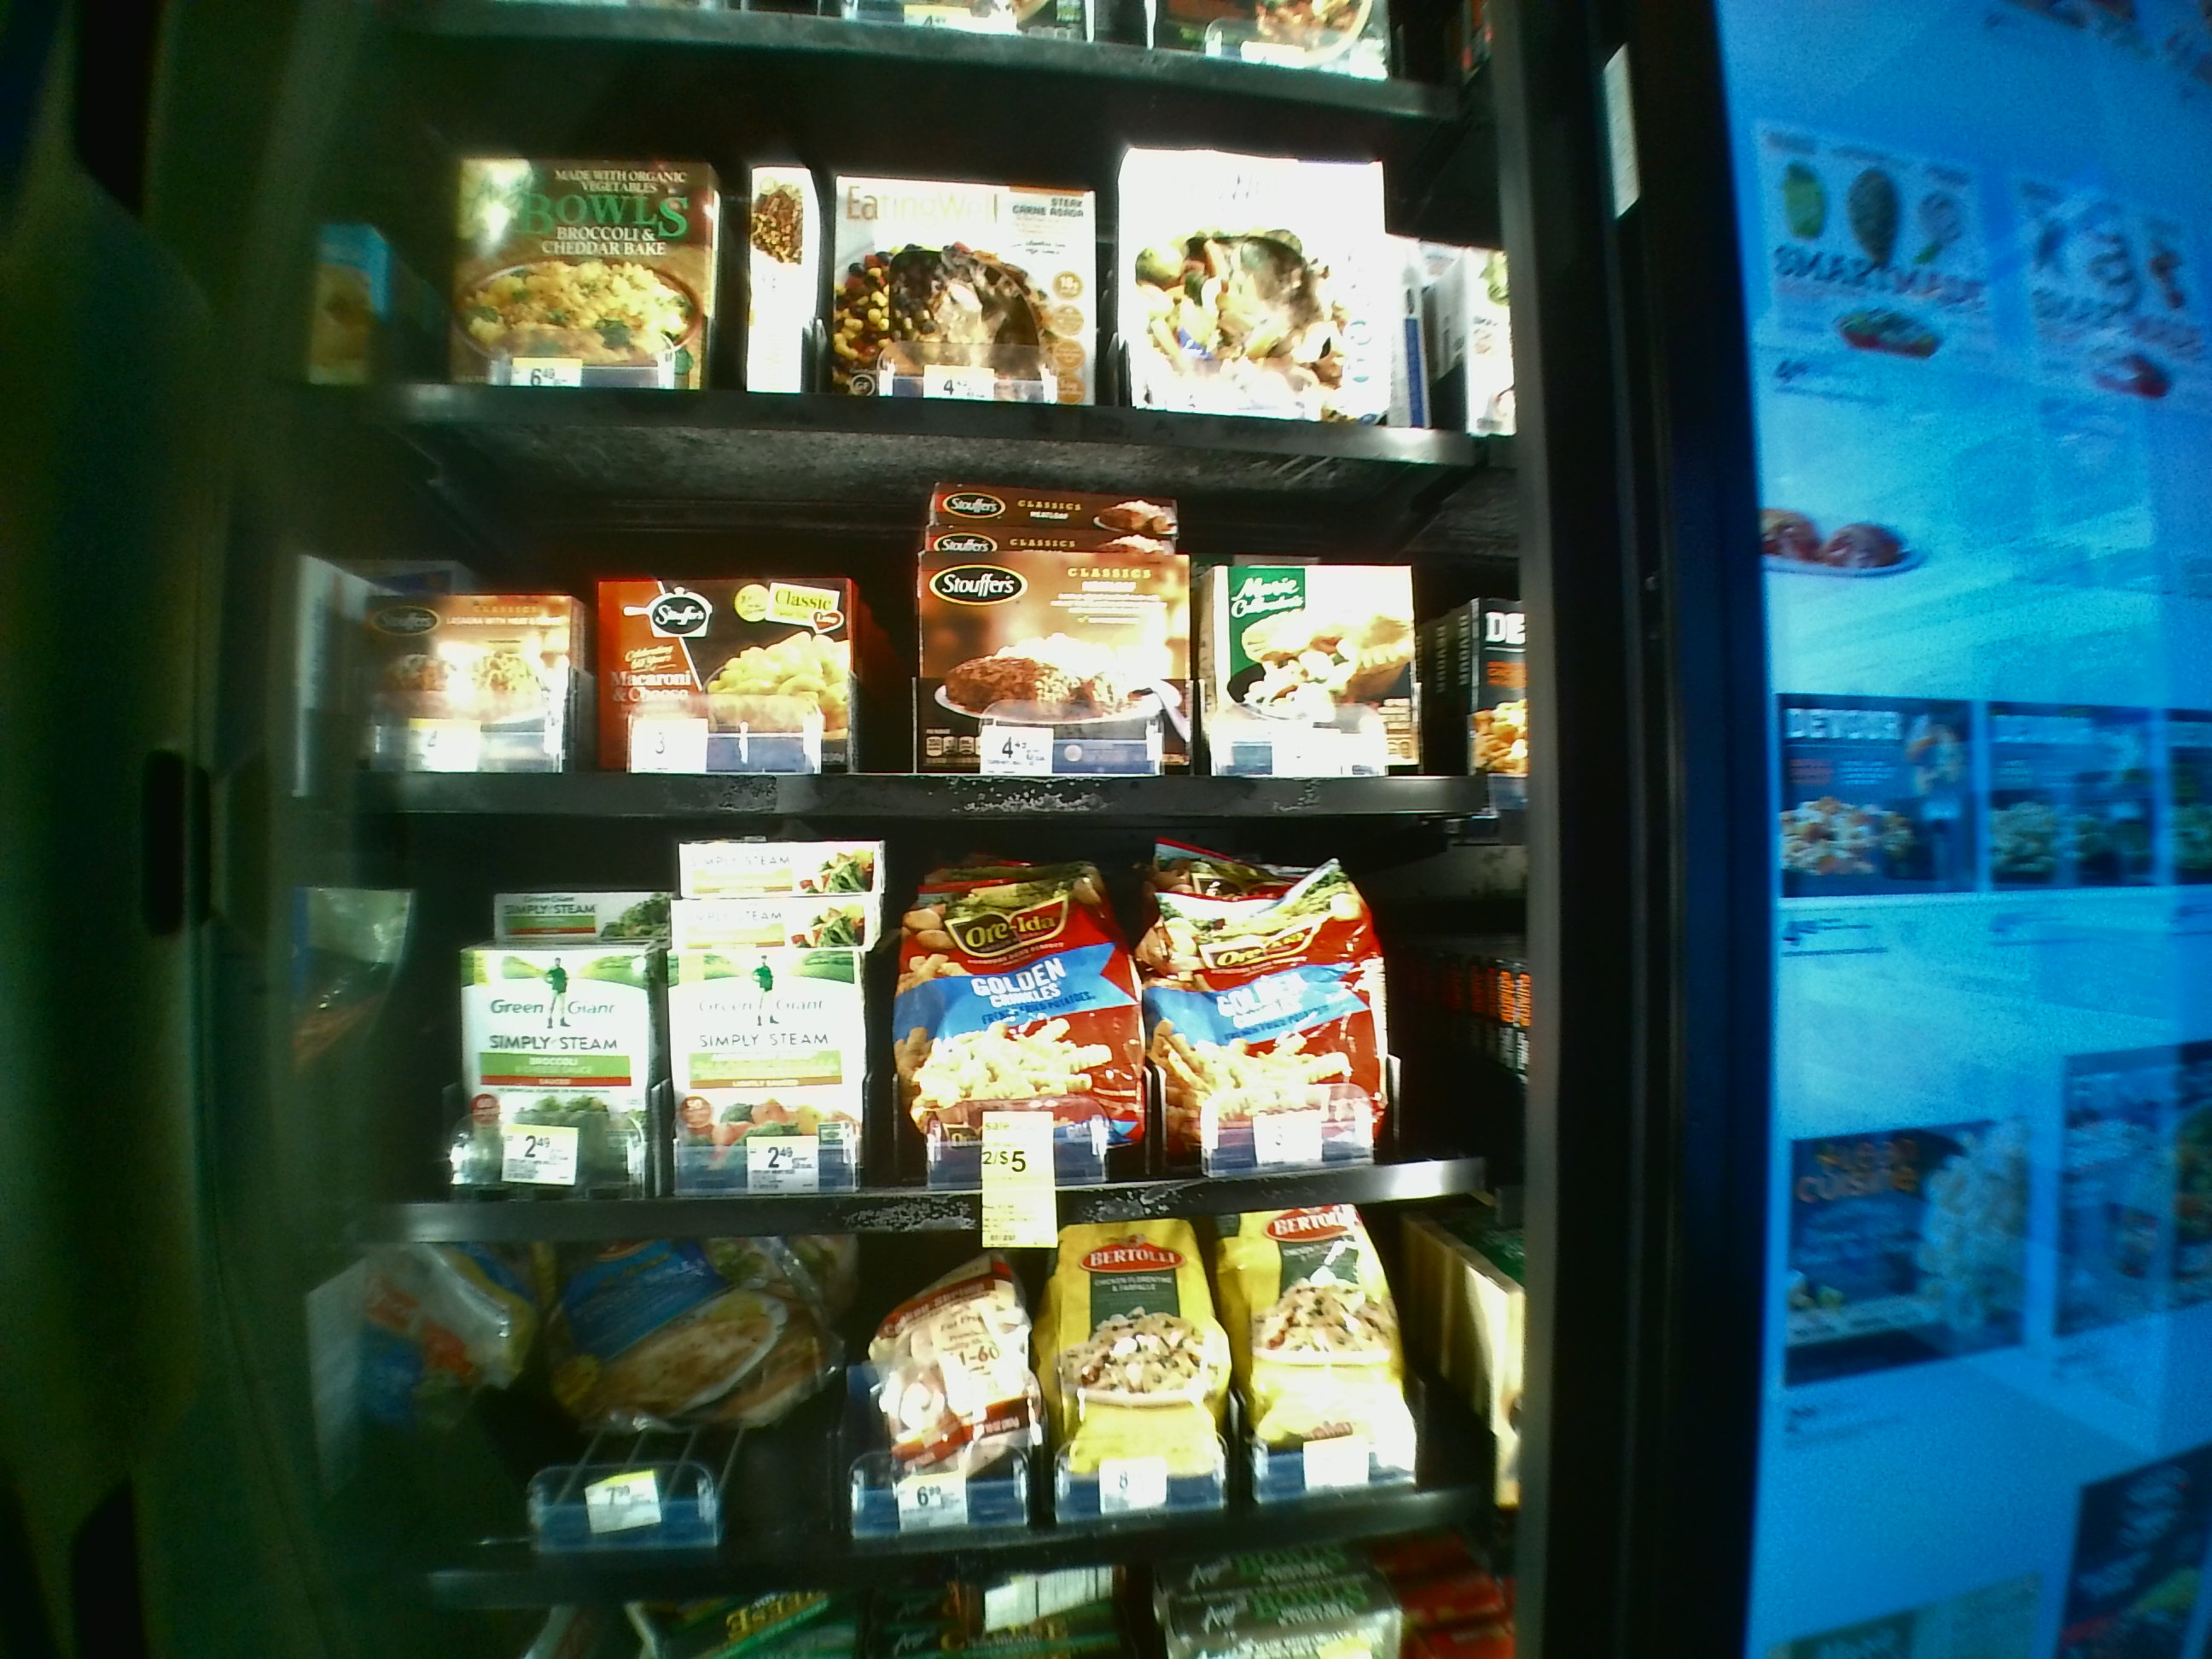shelf: (343, 829, 1515, 1236), (343, 422, 1508, 817)
